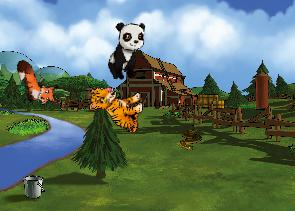fox: (13, 52, 63, 112)
panda: (106, 19, 147, 83)
tiger: (88, 85, 144, 132)
